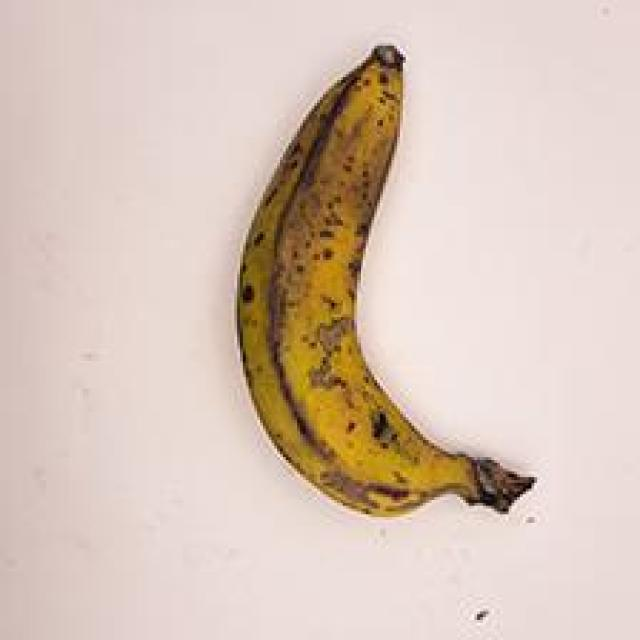Overripe: (205, 18, 551, 550)
